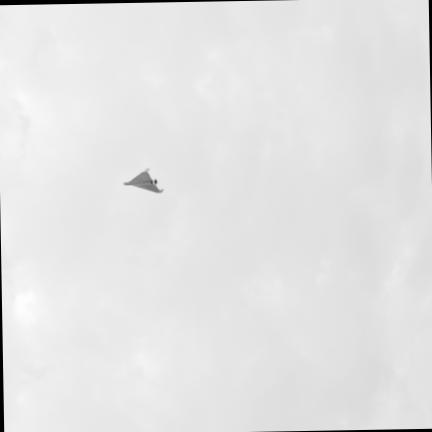Shahed: (124, 167, 162, 191)
